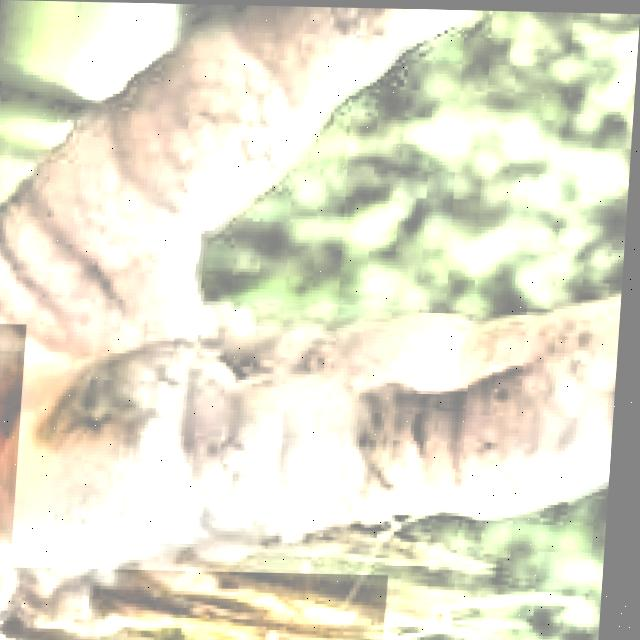Bumble foot: (0, 280, 303, 504)
